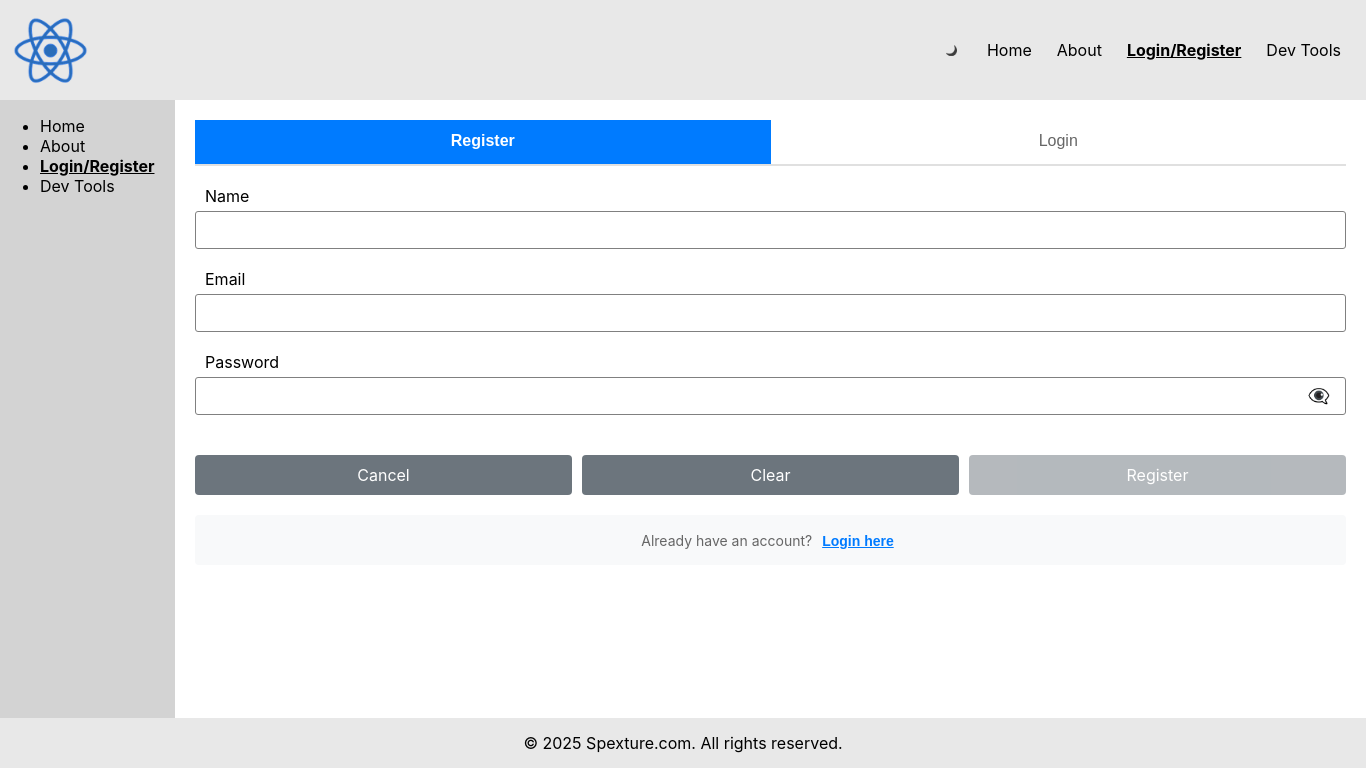
Test: App › navigates back to Home when Home link is clicked
Check: the 1st link "Home" is shown, box [987, 40, 1032, 60]
Navigate away from home first
Click the 1st link "About": coordinates (1079, 50) [1057, 40, 1102, 60]
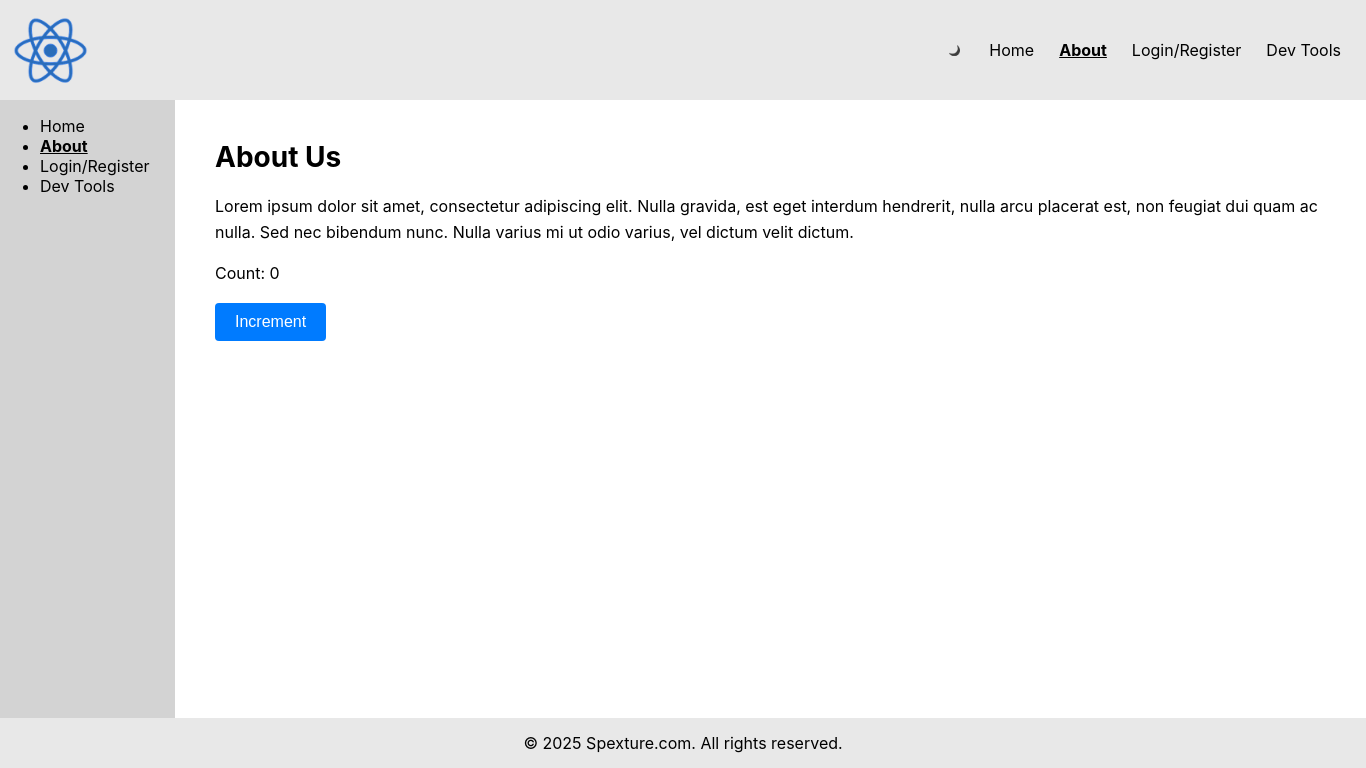
Check: the heading "About Us" is shown, box [215, 140, 341, 174]
Then navigate back to home
Click the 1st link "Home": coordinates (1012, 50) [989, 40, 1034, 60]
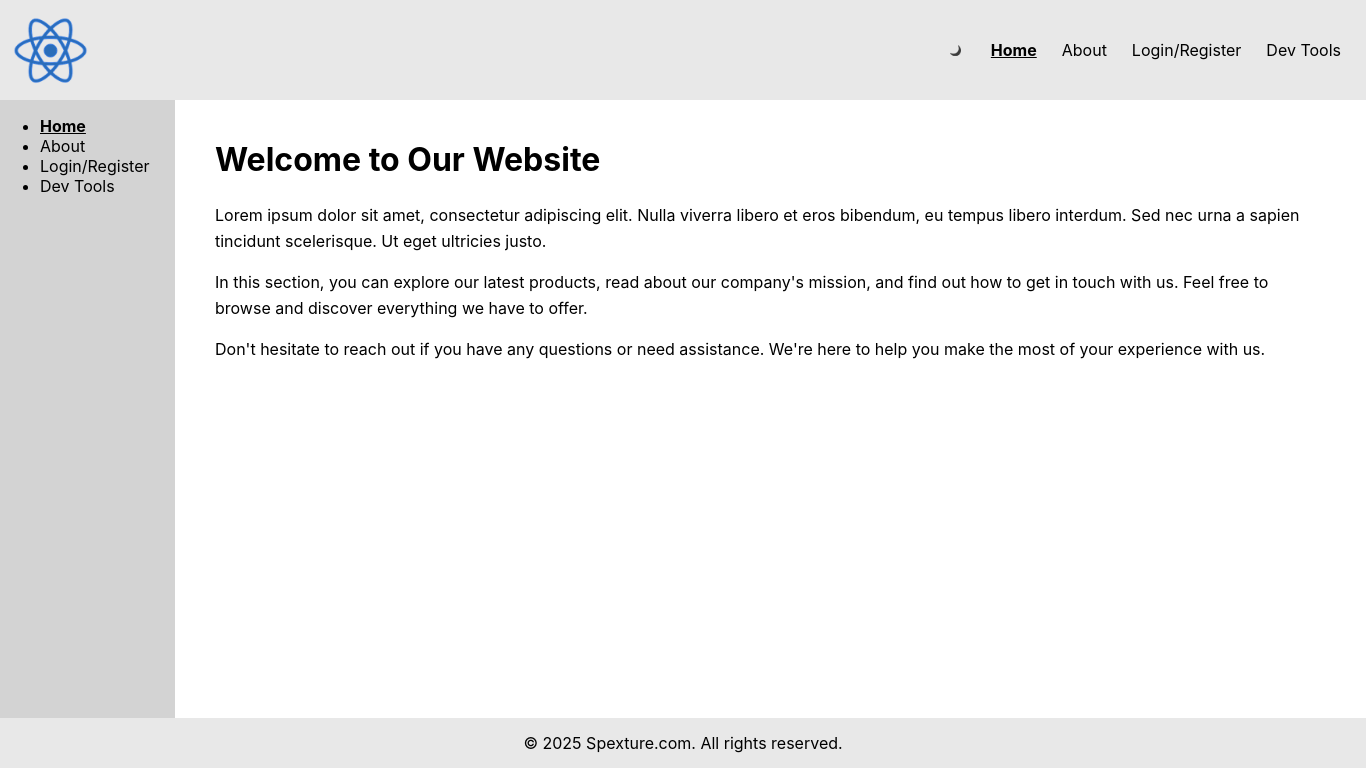
Check: the heading "Welcome to Our Website" is shown, box [215, 140, 600, 179]
